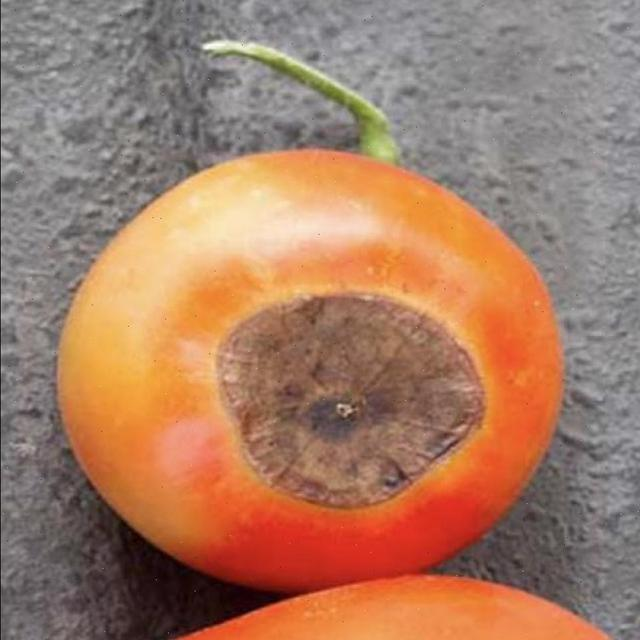Blossom End Rot Fruit: (139, 185, 322, 345)
